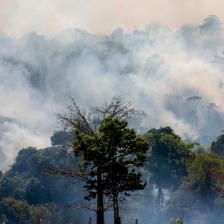incendio: (8, 90, 81, 170), (134, 83, 215, 154), (104, 179, 223, 224), (57, 65, 148, 109)
